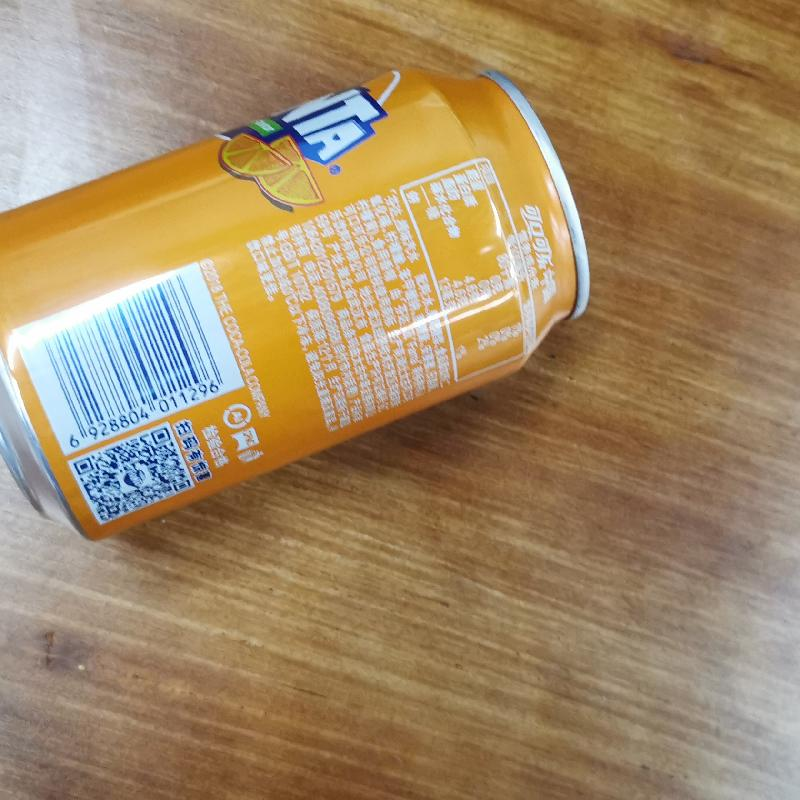cans: (9, 67, 607, 541)
